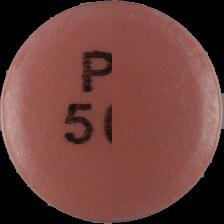16571-202: (0, 0, 224, 224)
